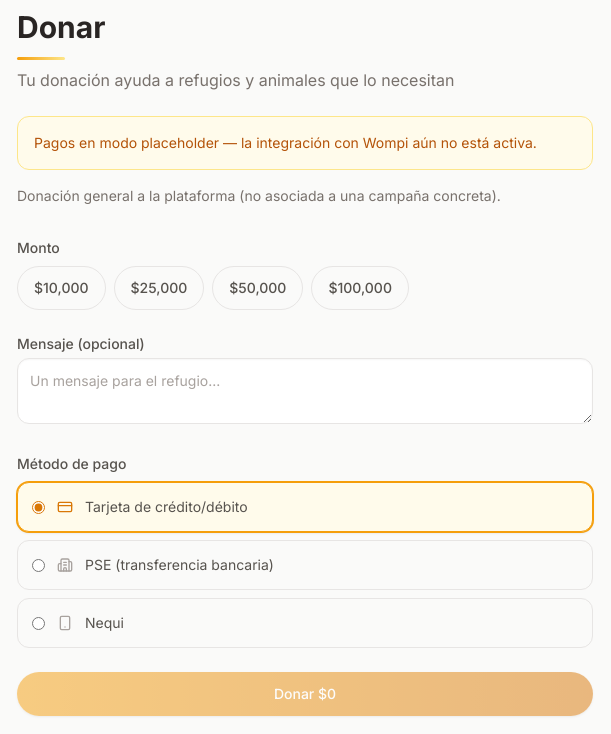
Test case: CheckoutDonacionPage › selects preset amount when clicked
Click the button "$25,000": (159, 288) [114, 266, 204, 310]
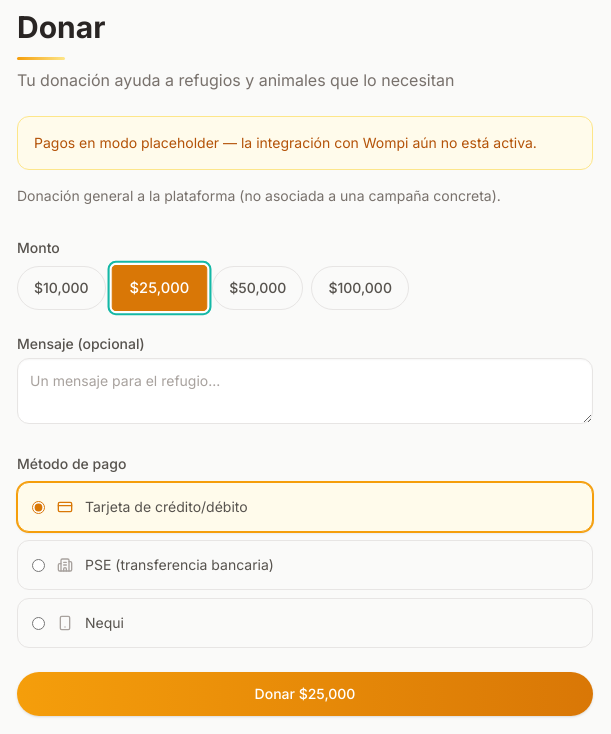
Check: the button "Donar $25,000" is shown, box [17, 672, 593, 716]
